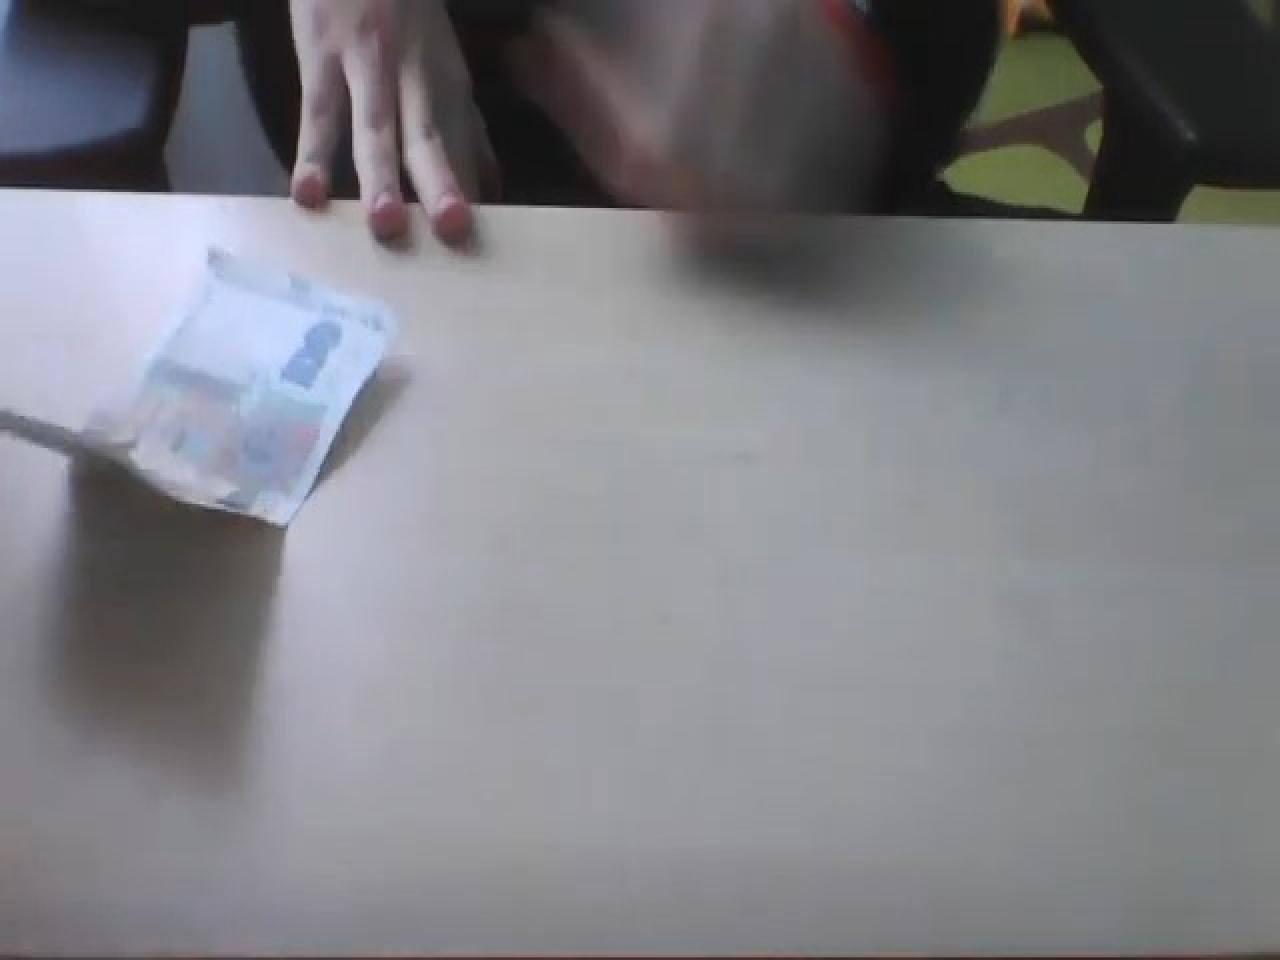100leva: (2, 184, 1276, 952), (82, 240, 394, 530)
